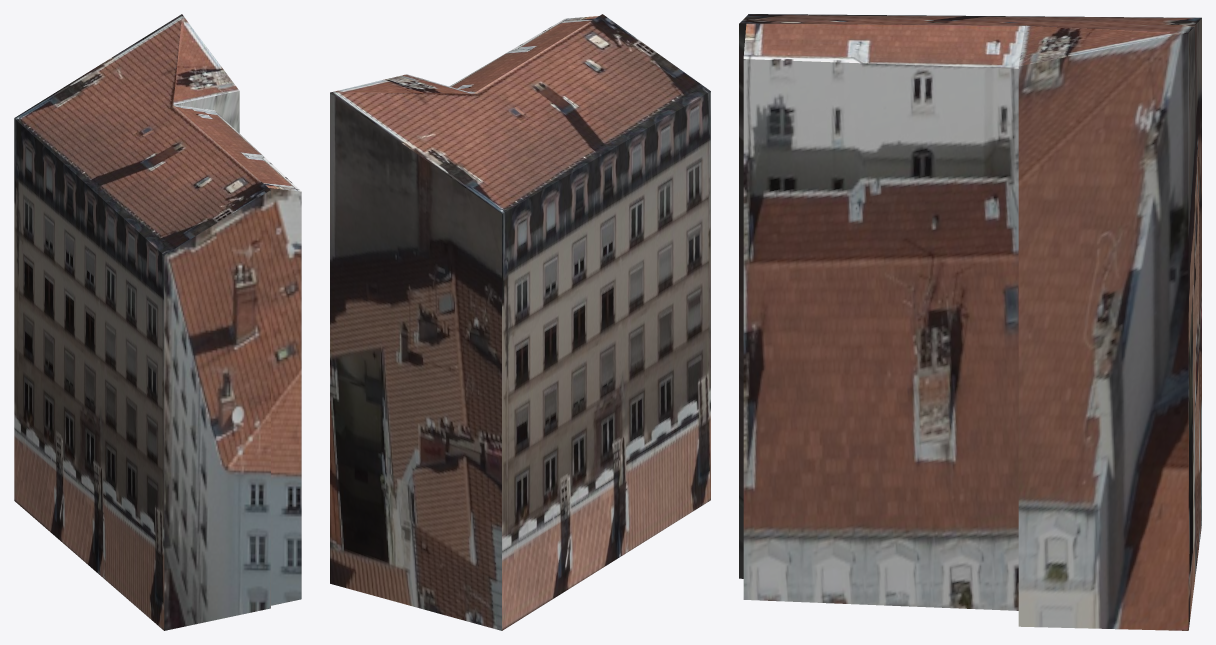
3 views of the same model, side by side, from view 1: azimuth 30°, elevation 25°; view 2: azimuth 150°, elevation 25°; view 3: azimuth 270°, elevation 25° (orthographic). The views are drawn at different scales.
Visible parts, largest first — view 1: Z_UP; view 2: Z_UP; view 3: Z_UP.
Part boxes in pixels (x1=…): Z_UP: x1=14, y1=14, x2=301, y2=630; Z_UP: x1=330, y1=14, x2=710, y2=630; Z_UP: x1=739, y1=14, x2=1201, y2=630.
Size of the model in its own units: 11.67 by 27.36 by 19.19.
2 materials, 1 textured.
